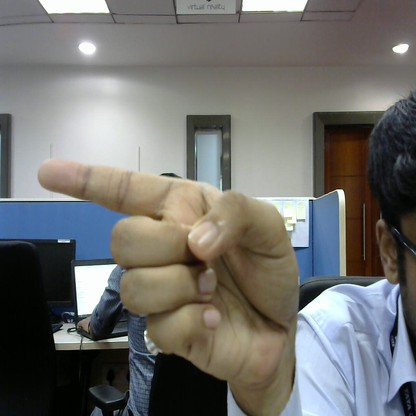g: (25, 150, 302, 392)
